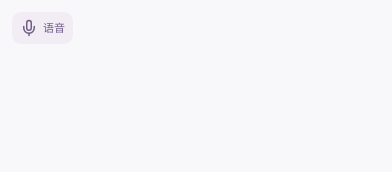
director voice input › provides a usable text fallback after permission denial
Click the button with aria-label "语音输入": click(42, 28) top-left (12, 12), bottom-right (73, 44)
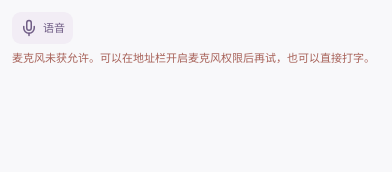
Check: the text "麦克风未获允许。可以在地址栏开启麦克风权限后再试，也可以直接打字。" is shown, box top-left (12, 51), bottom-right (375, 65)
